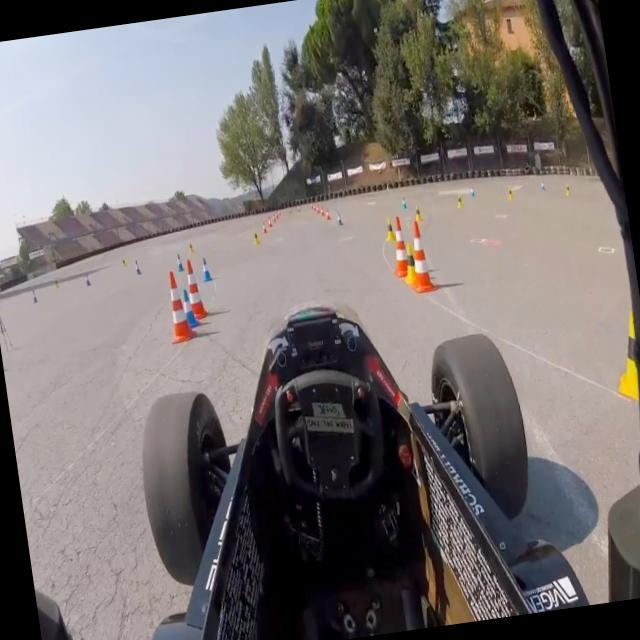blue_cone: (178, 286, 200, 331), (200, 254, 214, 282), (173, 251, 186, 274), (82, 270, 93, 288), (133, 258, 143, 276), (336, 210, 344, 227), (538, 178, 546, 194), (468, 186, 476, 200), (401, 196, 408, 210)
large_orange_cone: (159, 266, 199, 348), (402, 215, 440, 297), (184, 257, 210, 322), (388, 214, 413, 280)
orange_cone: (260, 222, 268, 234), (325, 208, 332, 221), (319, 206, 326, 218), (267, 216, 274, 228), (271, 213, 277, 224), (274, 212, 280, 220), (316, 206, 320, 214), (313, 204, 317, 212)
yellow_cone: (604, 298, 640, 406), (400, 241, 420, 286), (383, 212, 397, 244), (250, 227, 262, 249), (413, 204, 423, 223), (505, 185, 514, 202), (456, 192, 464, 210), (187, 238, 195, 254), (564, 180, 571, 198)
